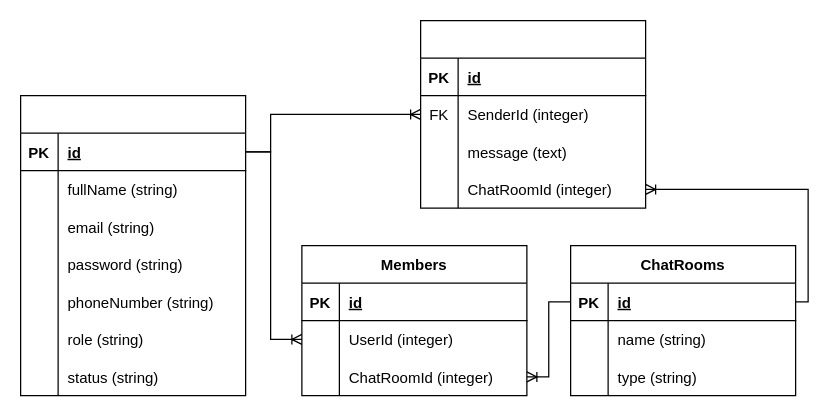
Some shapes in this 829 by 416 pixel diagram are drawn without their labels. Here are the shapes that lost their labels. From the top down, the box of each, then its label:
(419, 19, 646, 208): Messages
(19, 94, 246, 396): Users
